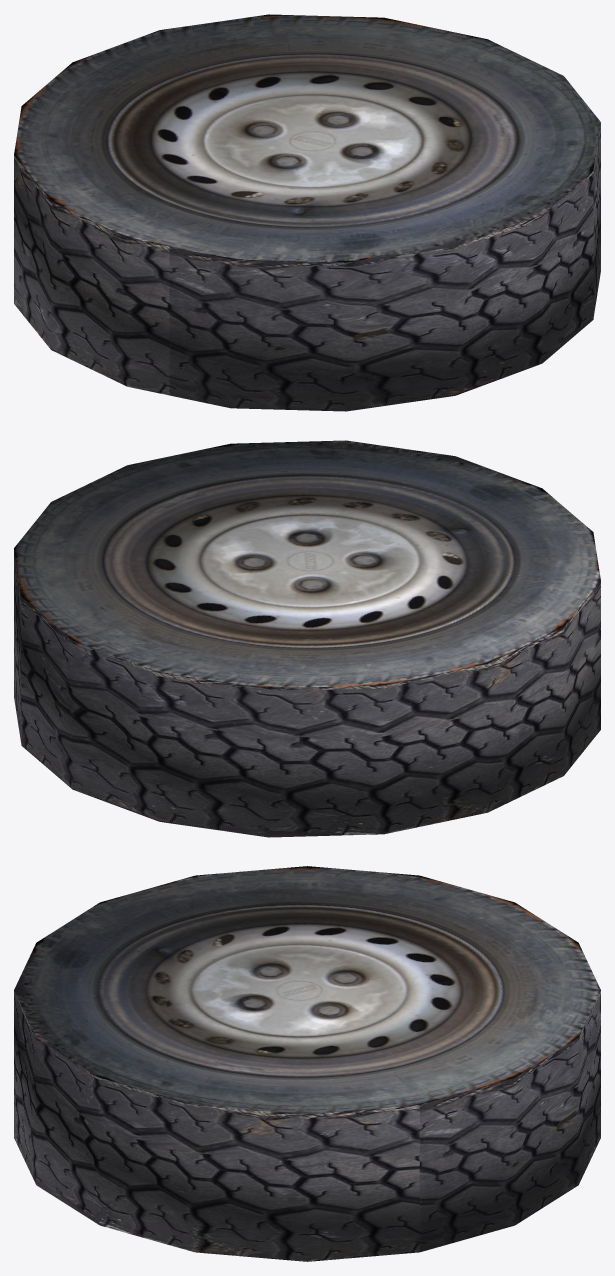
The model's file is tire.dae.
The picture shows the model from 3 angles, top to bottom: view 1: azimuth 30°, elevation 25°; view 2: azimuth 150°, elevation 25°; view 3: azimuth 270°, elevation 25°; orthographic projection.
Visible parts, largest first — view 1: Cylinder; view 2: Cylinder; view 3: Cylinder.
Part boxes in pixels (x1,y1,x2,y2): Cylinder: (14,14,600,411); Cylinder: (14,440,600,837); Cylinder: (14,866,600,1261).
Bounding box in the file's own units: 0.625 × 0.625 × 0.1735.
1 material, 1 textured.
